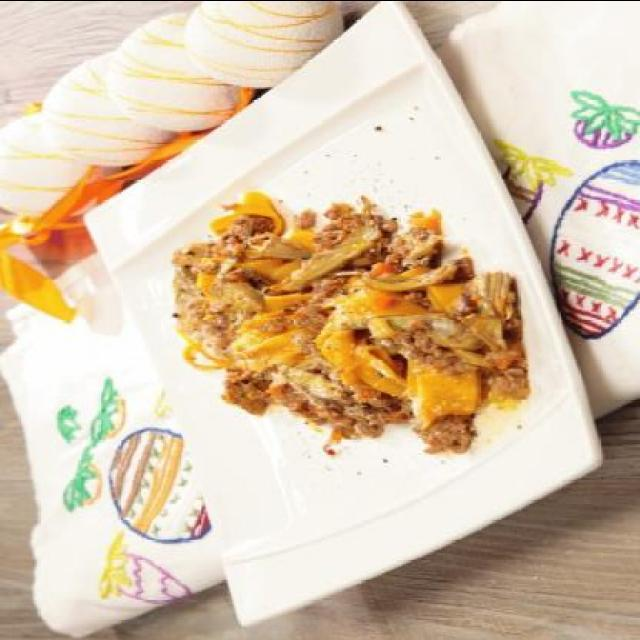Pasta al ragu: (126, 130, 558, 462)
